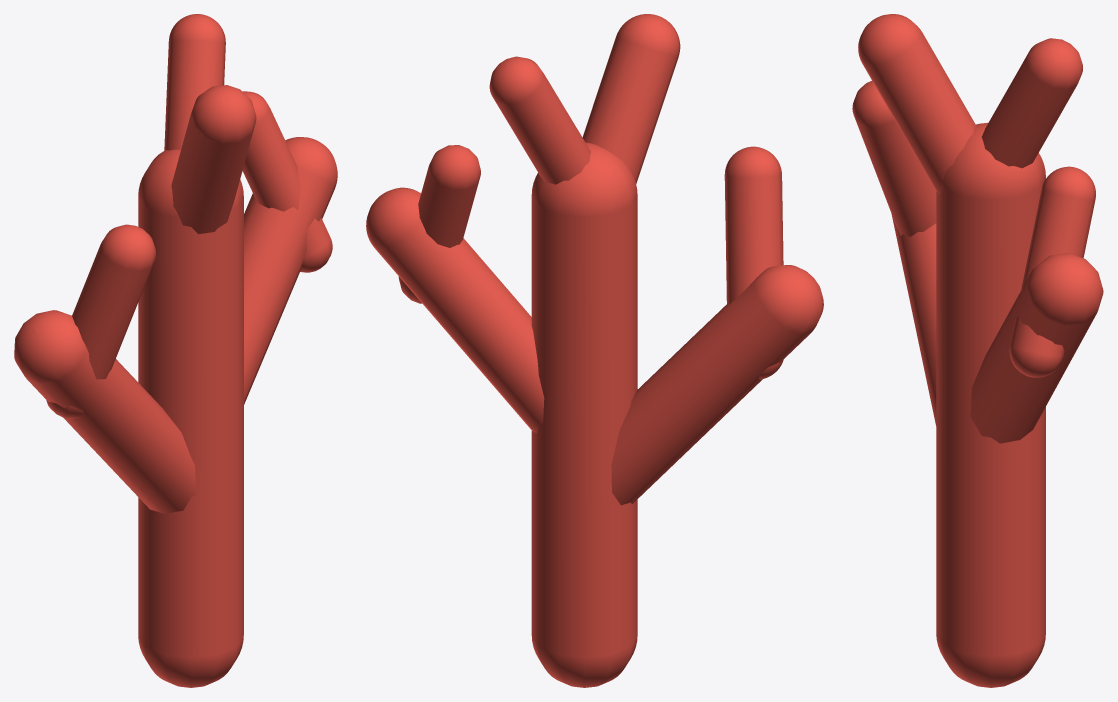
File: coral.glb
The picture shows the model from 3 angles, left to right: view 1: azimuth 30°, elevation 25°; view 2: azimuth 150°, elevation 25°; view 3: azimuth 270°, elevation 25°; orthographic projection. The views are drawn at different scales.
Visible parts, largest first — view 1: coral; view 2: coral; view 3: coral.
Boxes of the visible parts, <box> form: coral: <box>14,14,337,687</box>; coral: <box>366,14,823,687</box>; coral: <box>852,14,1103,687</box>.
Size of the model in its own units: 0.1564 by 0.25 by 0.0862.
